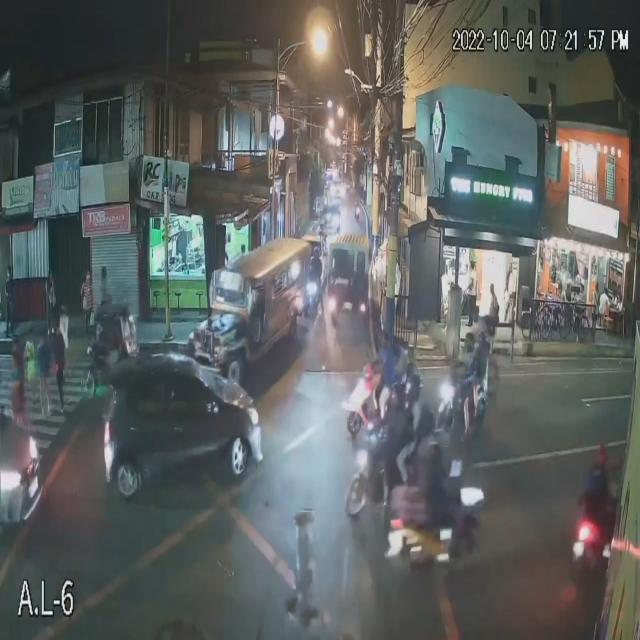Full-Faced: (398, 366, 421, 401), (387, 385, 406, 414), (595, 440, 610, 472)
Not-Wearing-Helmet: (472, 328, 488, 351), (462, 331, 474, 356), (376, 329, 388, 353)
